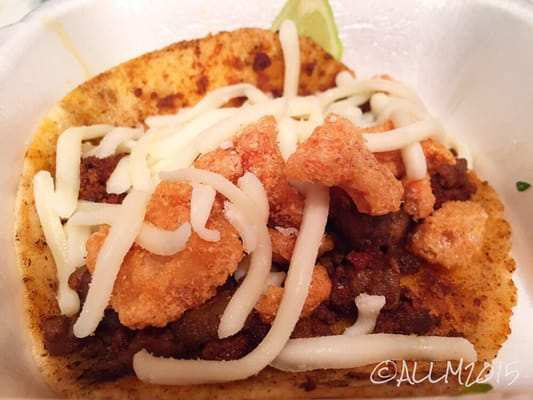soup: (7, 17, 527, 399)
